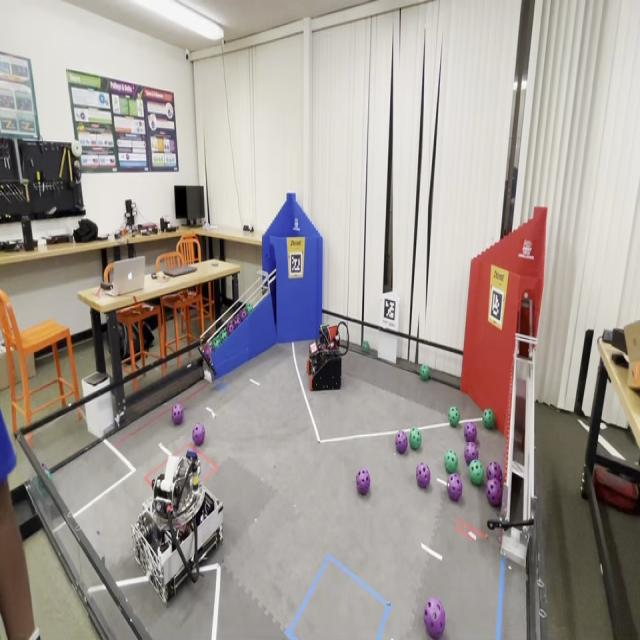artifact_green: (469, 460, 483, 485), (444, 450, 458, 474), (482, 408, 495, 430), (409, 427, 421, 450), (202, 343, 213, 362), (448, 407, 459, 426), (41, 464, 52, 479), (420, 364, 429, 381), (212, 332, 223, 344), (212, 332, 222, 344), (218, 332, 225, 346), (220, 330, 227, 343), (213, 336, 220, 349), (245, 304, 253, 315), (362, 341, 369, 353), (208, 337, 215, 349), (217, 335, 224, 346), (210, 339, 215, 354), (46, 470, 52, 481), (218, 337, 223, 347), (41, 463, 47, 470)
artifact_purple: (424, 598, 445, 639), (486, 479, 502, 507), (448, 473, 462, 501), (416, 463, 430, 489), (356, 469, 370, 495), (486, 462, 502, 484), (464, 443, 478, 465), (192, 424, 205, 446), (464, 422, 477, 443), (396, 431, 407, 453), (172, 403, 183, 425), (203, 344, 212, 362), (226, 320, 235, 335), (233, 315, 241, 328), (240, 309, 247, 321), (41, 463, 47, 471)
